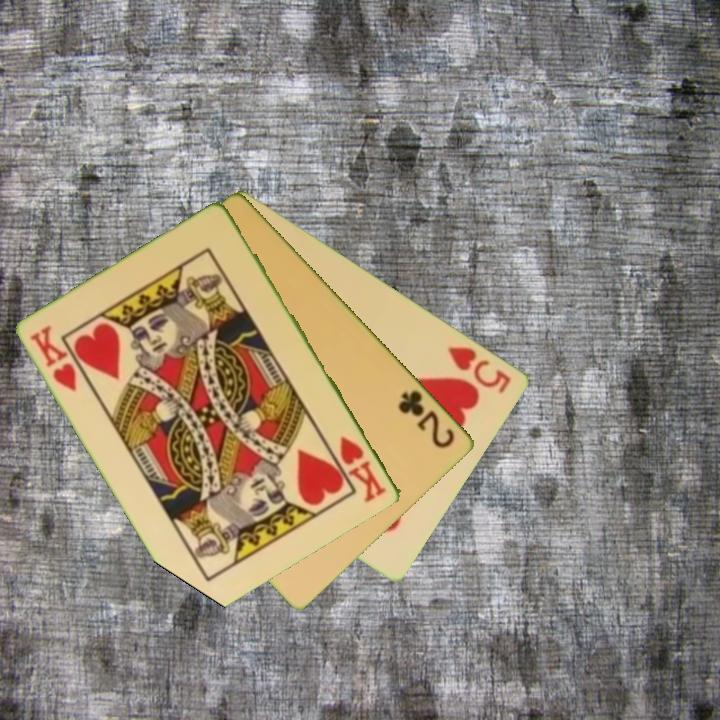2c: (395, 386, 458, 451)
5h: (444, 342, 515, 396)
Kh: (336, 432, 390, 505), (27, 321, 80, 395)
